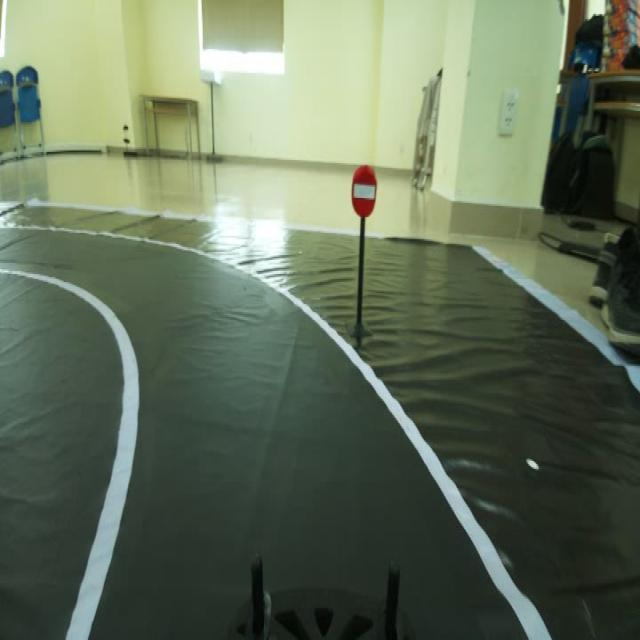no_entry: (346, 156, 378, 218)
